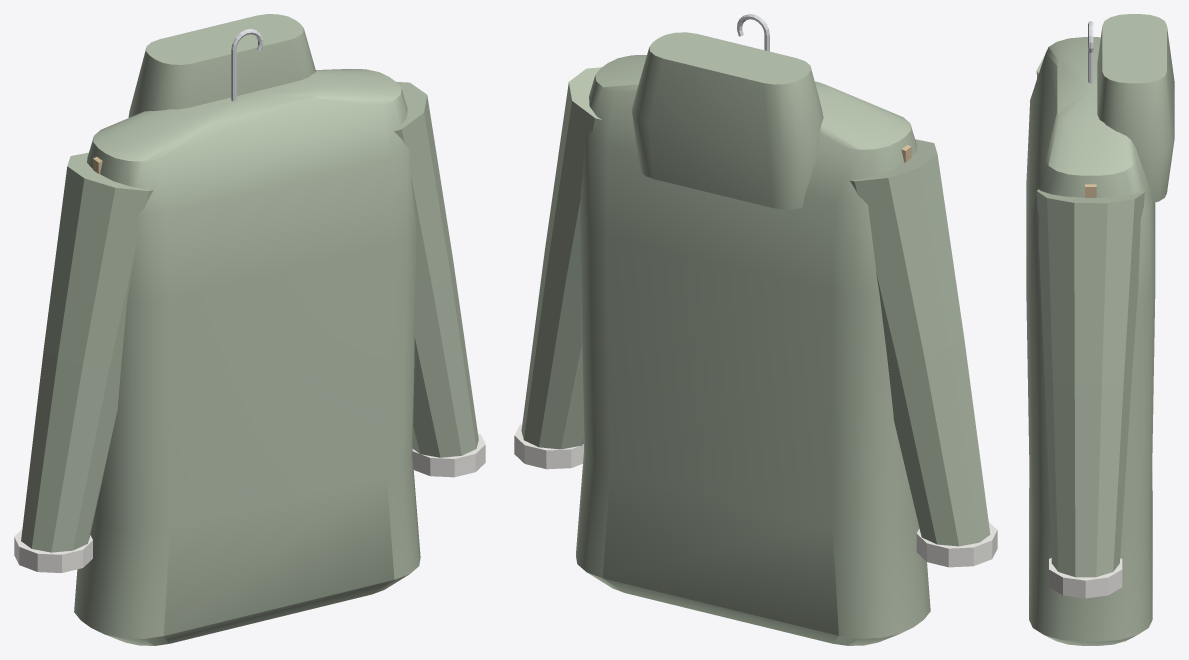
The model's file is hoodie.glb.
3 renders of one model, left to right at view 1: azimuth 30°, elevation 25°; view 2: azimuth 150°, elevation 25°; view 3: azimuth 270°, elevation 25°, orthographic. The views are drawn at different scales.
Parts seen in each view (by area): view 1: hoodie-on-hanger; view 2: hoodie-on-hanger; view 3: hoodie-on-hanger.
Boxes of the visible parts, x1,y1,x2,y2 form: hoodie-on-hanger: (14, 14, 485, 645); hoodie-on-hanger: (514, 14, 997, 645); hoodie-on-hanger: (1026, 14, 1174, 645).
Size of the model in its own units: 0.6848 by 0.8113 by 0.1955.
